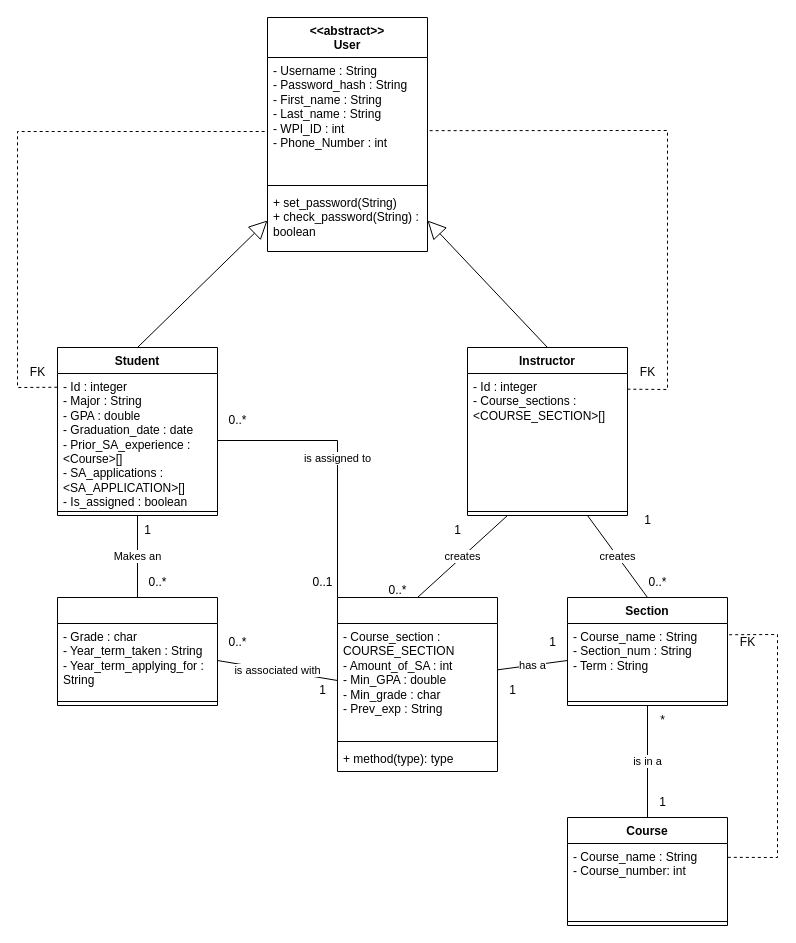
The diagram is 796 pixels wide and 943 high, and some of its shapes have lost their labels. Here are the shapes that lost their labels. From the top down, the box of each, then its label:
(56, 596, 218, 706): SA Application
(336, 596, 498, 772): SA Position
